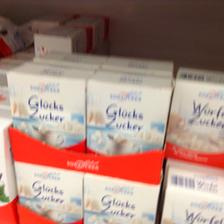Zucker: (6, 60, 94, 152), (83, 68, 172, 156), (164, 66, 224, 168), (160, 165, 224, 221), (32, 24, 92, 56)
